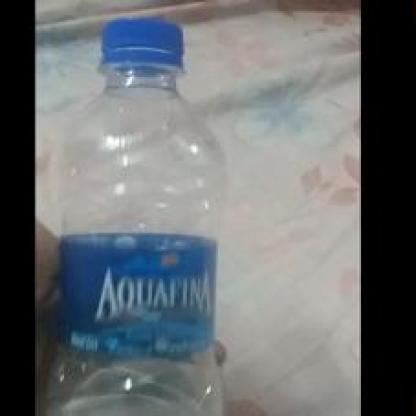bottle: (48, 9, 246, 414)
